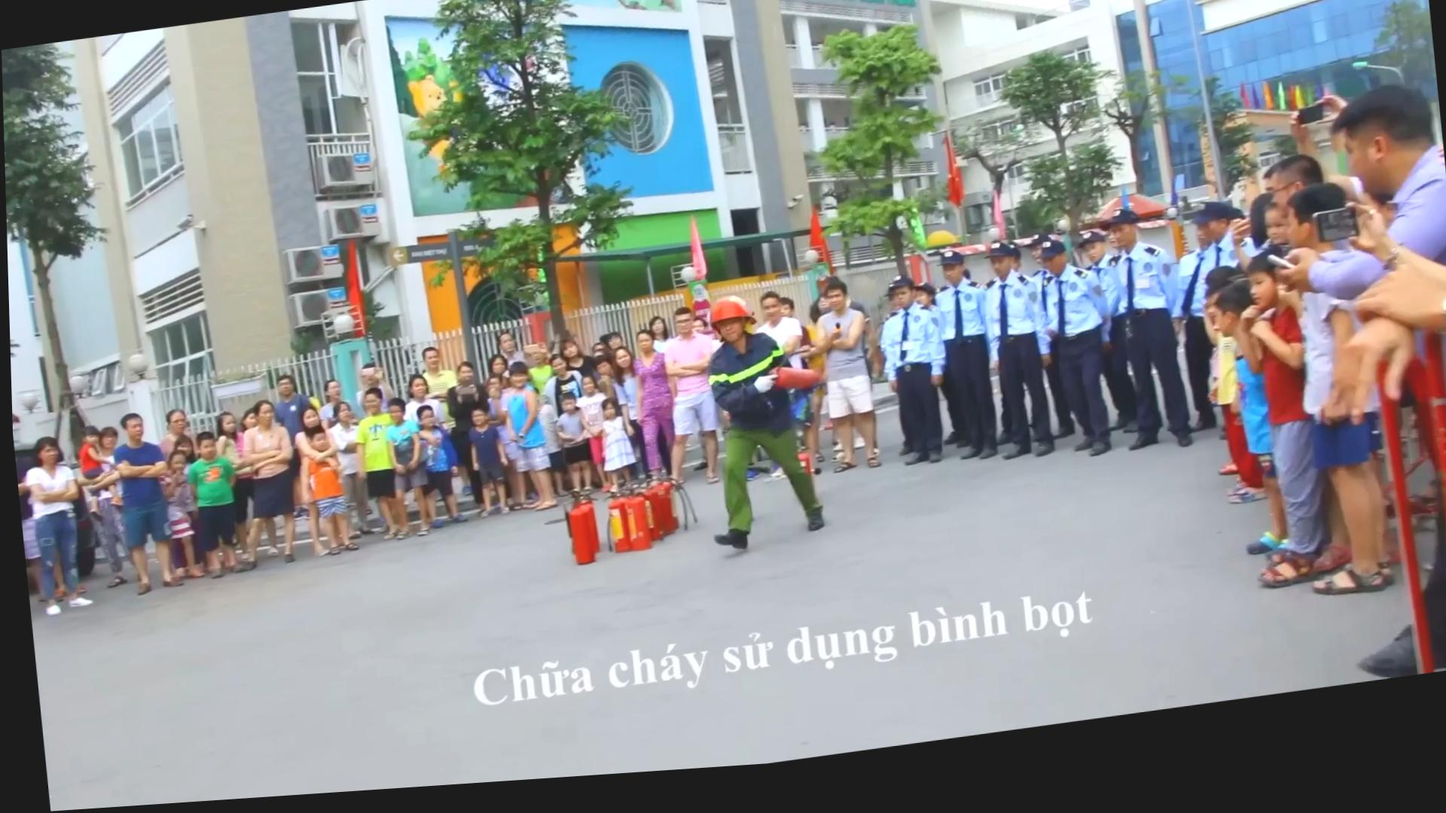FireExtinguisher: (635, 469, 696, 555), (600, 491, 653, 571), (555, 491, 603, 576), (760, 365, 827, 409)
not: (1367, 335, 1446, 697), (1232, 297, 1327, 449), (1208, 395, 1280, 523), (1234, 81, 1345, 146), (625, 348, 679, 471), (659, 318, 718, 419), (334, 235, 380, 348), (307, 437, 354, 535), (677, 215, 723, 301), (931, 135, 966, 226), (1144, 221, 1200, 275), (61, 418, 105, 484), (798, 211, 836, 284), (886, 255, 940, 306), (707, 307, 759, 343), (576, 434, 604, 486)
